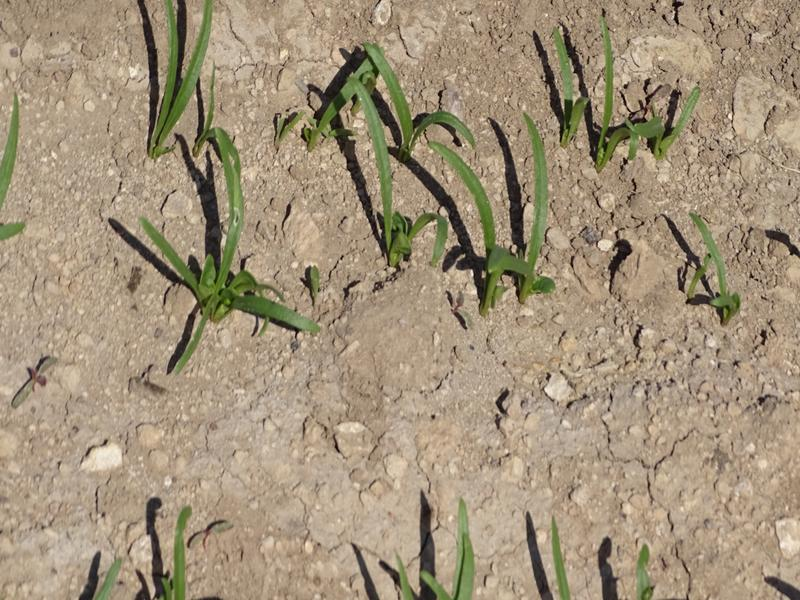Espinaca: (315, 47, 556, 297), (134, 142, 324, 341), (547, 20, 692, 151), (363, 497, 481, 598), (142, 1, 217, 128), (691, 206, 742, 320), (1, 92, 29, 250), (544, 522, 577, 600), (166, 507, 193, 596), (91, 547, 135, 597), (624, 541, 658, 600)
